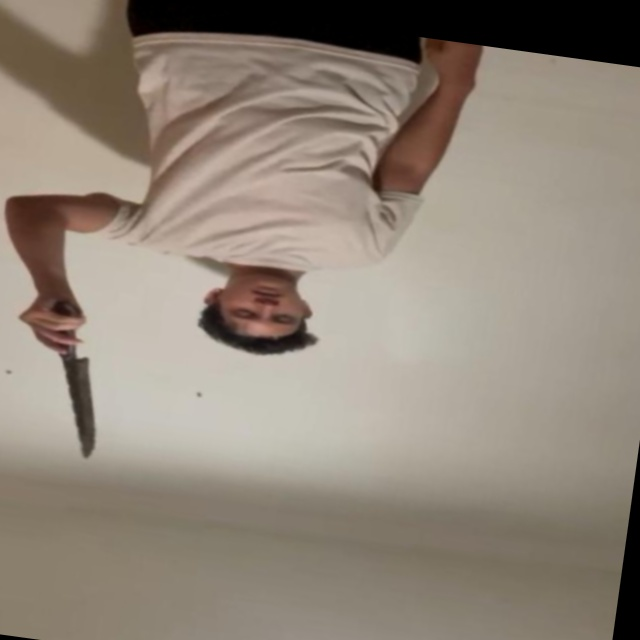Sharp-Object: (51, 358, 109, 460)
